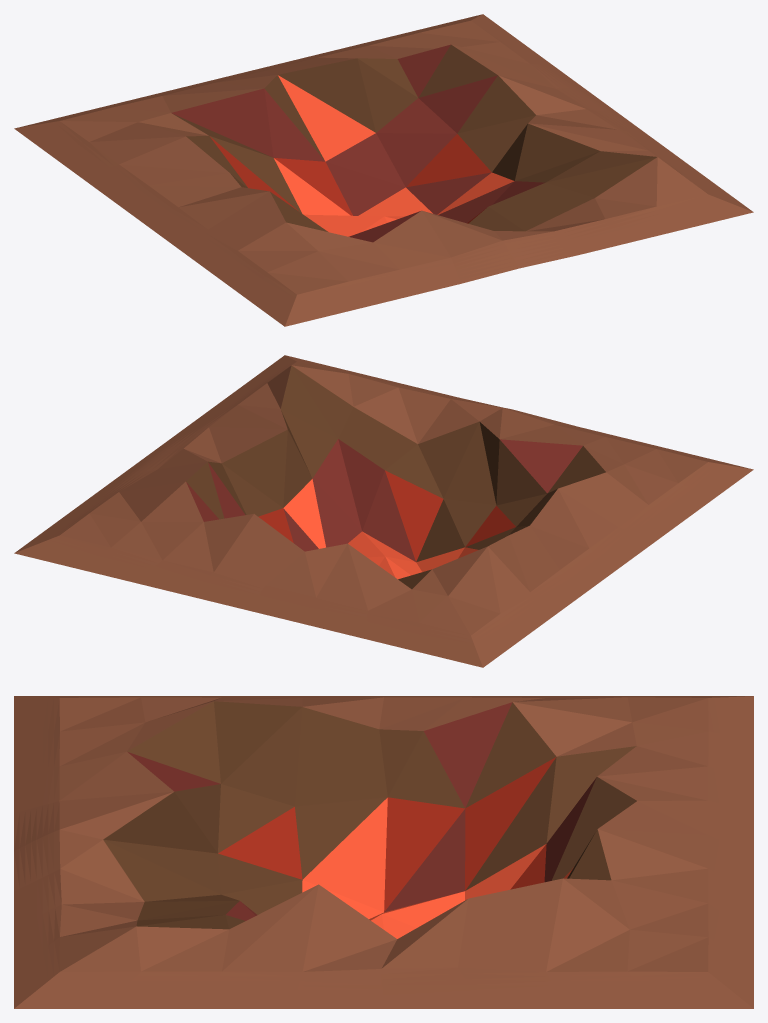
The model's file is crater.fbx.
The picture shows the model from 3 angles, top to bottom: view 1: azimuth 30°, elevation 25°; view 2: azimuth 150°, elevation 25°; view 3: azimuth 270°, elevation 25°; orthographic projection. The views are drawn at different scales.
Parts seen in each view (by area): view 1: Cube.023; view 2: Cube.023; view 3: Cube.023.
Part boxes in pixels (<box>): Cube.023: <box>14,14,753,326</box>; Cube.023: <box>14,355,753,667</box>; Cube.023: <box>14,696,753,1008</box>.
Size of the model in its own units: 97.82 by 97.82 by 23.55.
